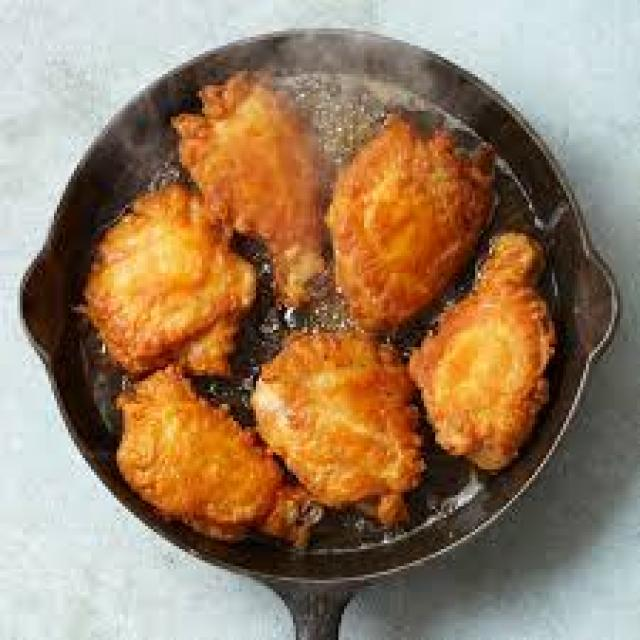Frango: (89, 59, 560, 572)
